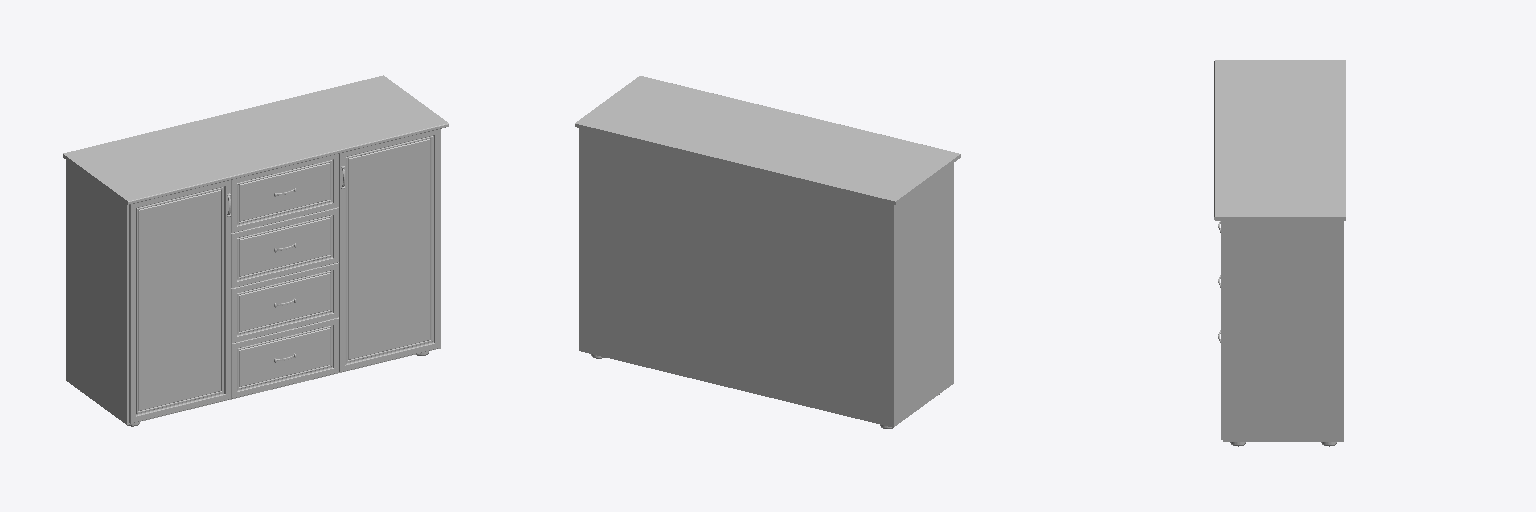
Rendered from uploads_files_3965698_wooden_dresser.obj.
The picture shows the model from 3 angles: view 1: azimuth 30°, elevation 25°; view 2: azimuth 150°, elevation 25°; view 3: azimuth 270°, elevation 25°; orthographic projection.
Parts seen in each view (by area): view 1: wooden_dresser; view 2: wooden_dresser; view 3: wooden_dresser.
Part boxes in pixels (left/top/right/bottom): wooden_dresser: left=63, top=75, right=448, bottom=426; wooden_dresser: left=575, top=76, right=960, bottom=428; wooden_dresser: left=1214, top=60, right=1345, bottom=446.
Bounding box in the file's own units: 1.38 × 0.9662 × 0.4895.